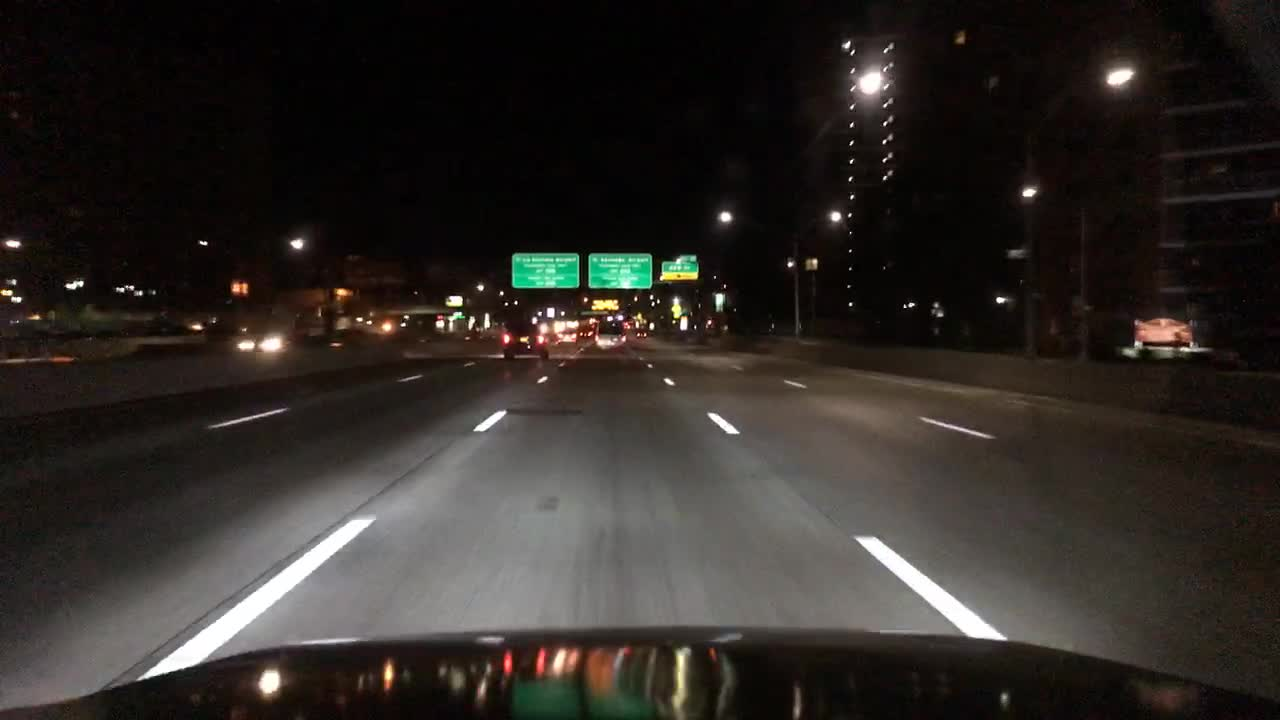car: (500, 316, 550, 362), (235, 327, 296, 355), (592, 314, 625, 351), (557, 328, 580, 345), (548, 319, 561, 346), (578, 320, 595, 339)
traffic sign: (511, 250, 579, 288), (590, 253, 653, 287), (660, 258, 697, 281), (681, 255, 697, 262)
